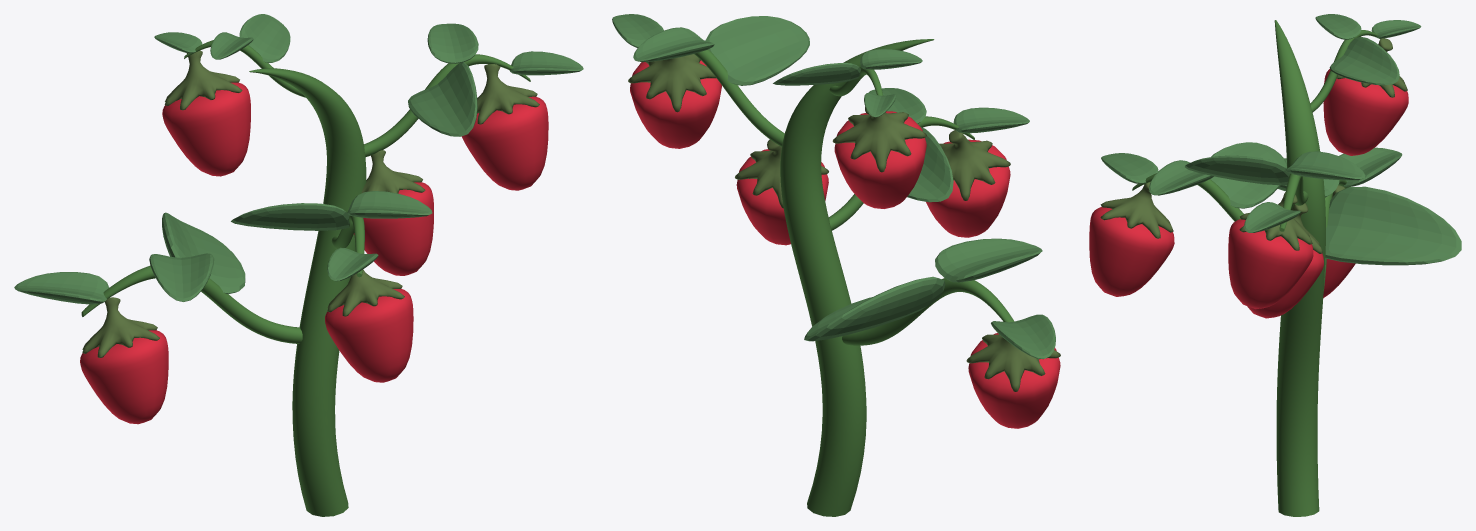
Rendered from farm-strawberry-plant.fbx.
The picture shows the model from 3 angles, left to right: view 1: azimuth 30°, elevation 25°; view 2: azimuth 150°, elevation 25°; view 3: azimuth 270°, elevation 25°; orthographic projection. The views are drawn at different scales.
Parts seen in each view (by area): view 1: NurbsPath.009; view 2: NurbsPath.009; view 3: NurbsPath.009.
Part boxes in pixels (left/top/right/bottom): NurbsPath.009: left=14, top=14, right=583, bottom=516; NurbsPath.009: left=612, top=14, right=1060, bottom=516; NurbsPath.009: left=1089, top=14, right=1461, bottom=516.
Size of the model in its own units: 182 by 166 by 124.
